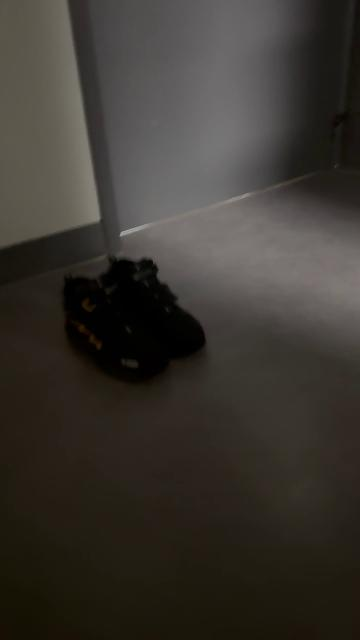shoe_worn: (62, 274, 173, 386), (99, 253, 208, 361)
